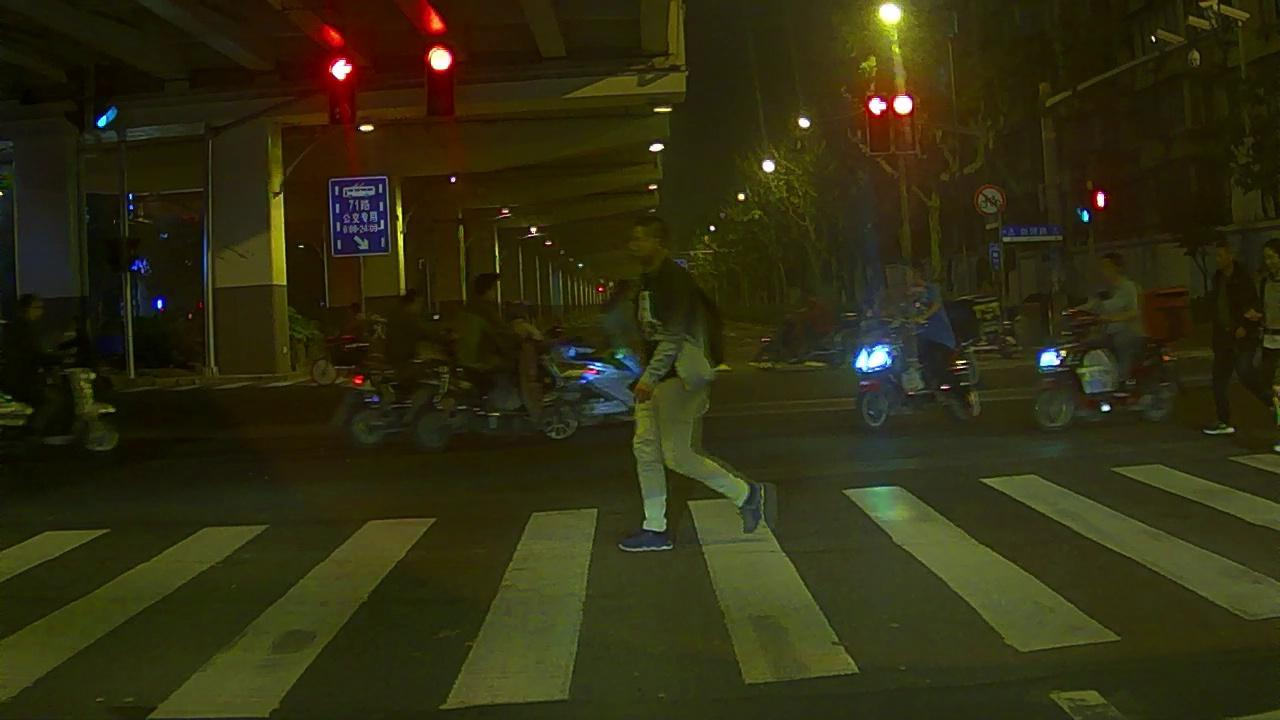traffic_light: (426, 50, 451, 116), (330, 60, 351, 121), (866, 96, 888, 148), (892, 95, 912, 150)
